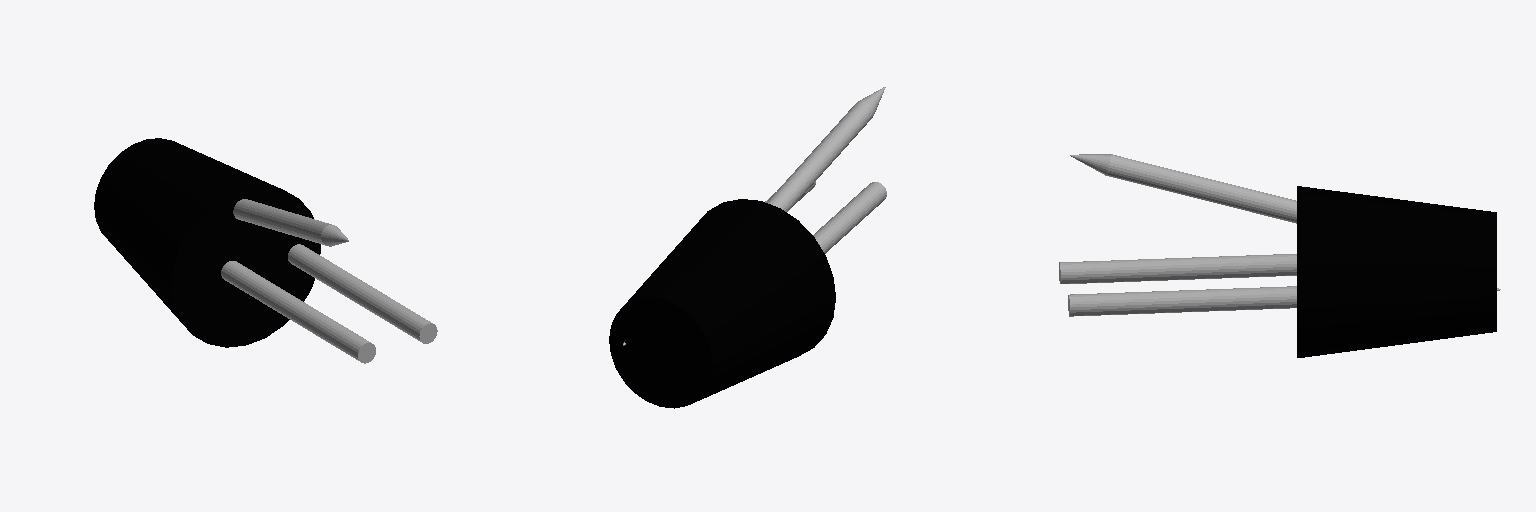
Rendered from penholder.obj.
3 renders of one model, left to right at view 1: azimuth 30°, elevation 25°; view 2: azimuth 150°, elevation 25°; view 3: azimuth 270°, elevation 25°, orthographic.
Parts seen in each view (by area): view 1: penholder.3ds_Cone02_Cone02_Geometry_0, penholder.3ds_Cylinder07_Cylinder07_Geometry_0, penholder.3ds_Cylinder01_Cylinder01_Geometry_0, penholder.3ds_Cylinder08_Cylinder08_Geometry_0; view 2: penholder.3ds_Cone02_Cone02_Geometry_0, penholder.3ds_Cylinder08_Cylinder08_Geometry_0, penholder.3ds_Cylinder07_Cylinder07_Geometry_0; view 3: penholder.3ds_Cone02_Cone02_Geometry_0, penholder.3ds_Cylinder07_Cylinder07_Geometry_0, penholder.3ds_Cylinder01_Cylinder01_Geometry_0, penholder.3ds_Cylinder08_Cylinder08_Geometry_0.
Part boxes in pixels (left/top/right/bottom): penholder.3ds_Cone02_Cone02_Geometry_0: left=94, top=138, right=320, bottom=347; penholder.3ds_Cylinder07_Cylinder07_Geometry_0: left=221, top=261, right=375, bottom=363; penholder.3ds_Cylinder01_Cylinder01_Geometry_0: left=288, top=244, right=437, bottom=343; penholder.3ds_Cylinder08_Cylinder08_Geometry_0: left=233, top=199, right=348, bottom=246; penholder.3ds_Cone02_Cone02_Geometry_0: left=609, top=199, right=835, bottom=408; penholder.3ds_Cylinder08_Cylinder08_Geometry_0: left=767, top=87, right=885, bottom=211; penholder.3ds_Cylinder07_Cylinder07_Geometry_0: left=813, top=182, right=886, bottom=253; penholder.3ds_Cone02_Cone02_Geometry_0: left=1297, top=186, right=1496, bottom=357; penholder.3ds_Cylinder07_Cylinder07_Geometry_0: left=1059, top=254, right=1296, bottom=283; penholder.3ds_Cylinder01_Cylinder01_Geometry_0: left=1068, top=286, right=1500, bottom=316; penholder.3ds_Cylinder08_Cylinder08_Geometry_0: left=1070, top=154, right=1296, bottom=223.
Bounding box in the file's own units: 127 × 151 × 316.